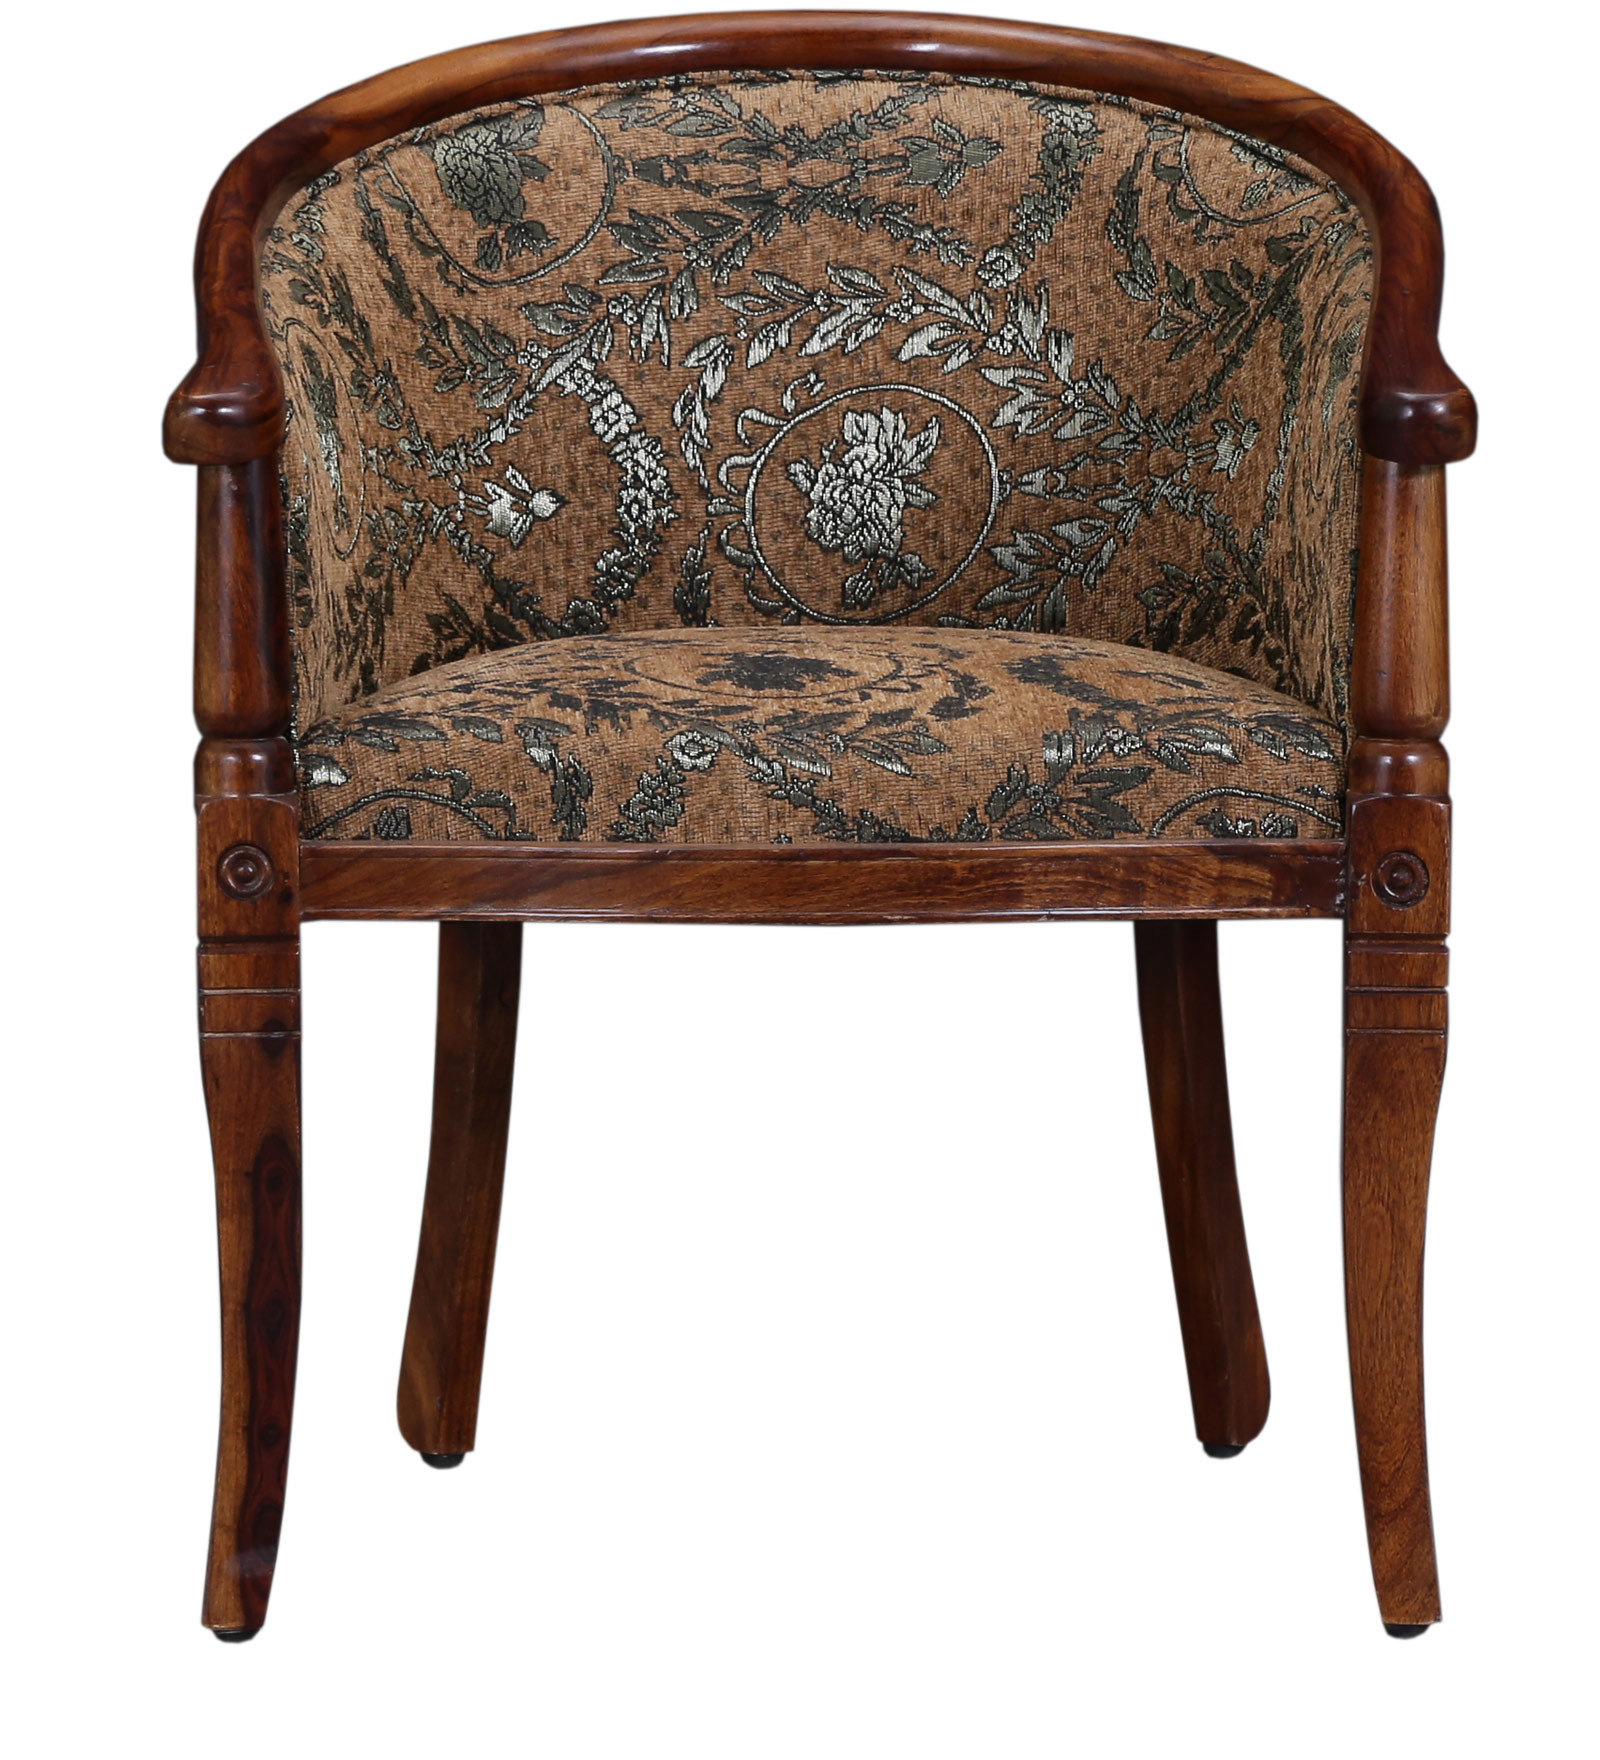Stalley Arm Chair in Honey Oak Finish by Amberville: (113, 12, 1510, 1696)
